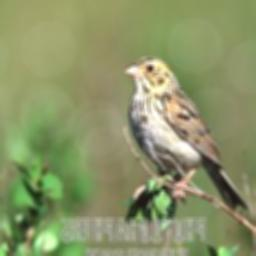Sparrow: (125, 54, 251, 223)
